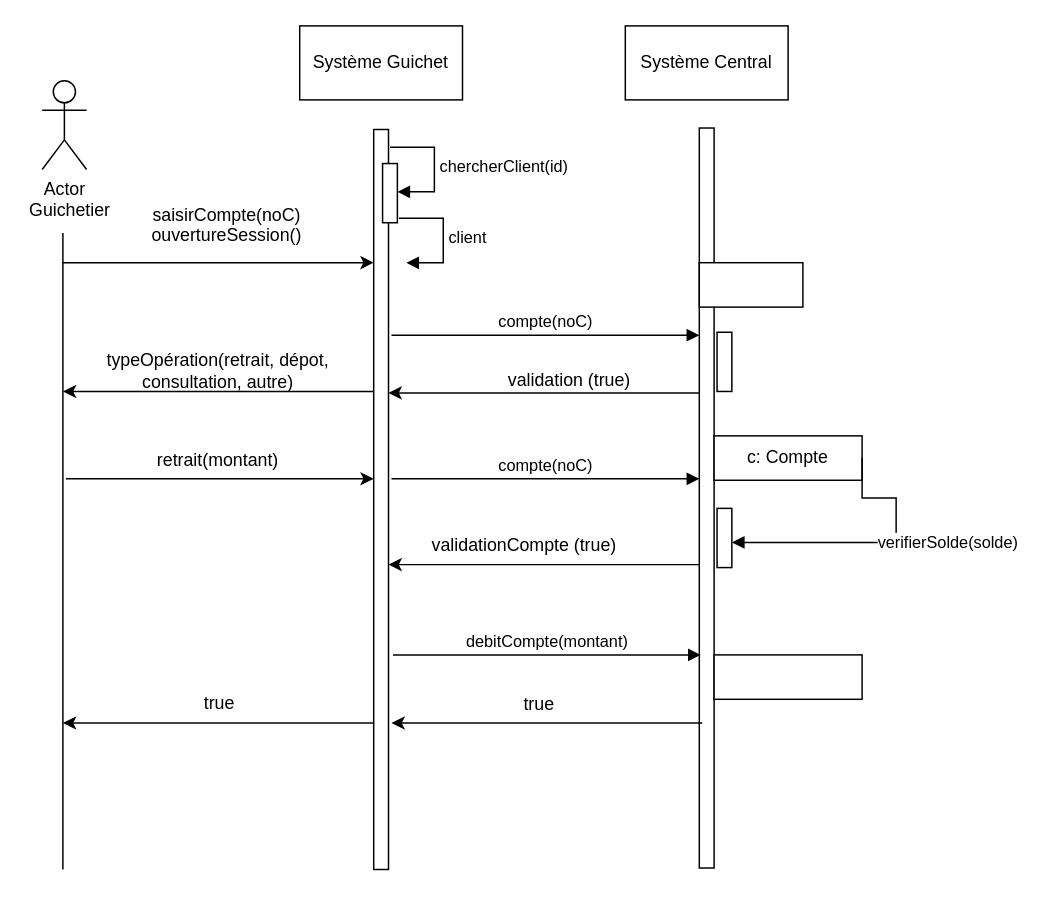
This 1043x897 diagram has some shape labels left out. Here are the shapes that lost their labels. From the top down, the box of each, then its label:
(698, 261, 803, 307): Client : Client
(713, 653, 862, 699): Compte
